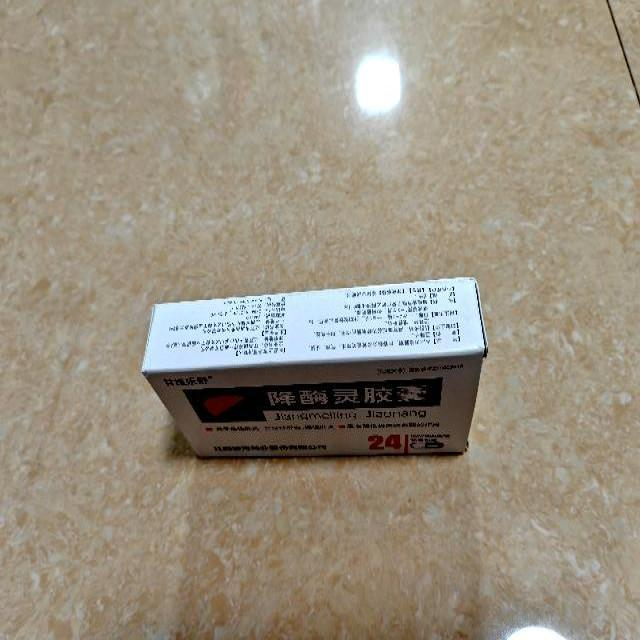box: (142, 274, 486, 460)
